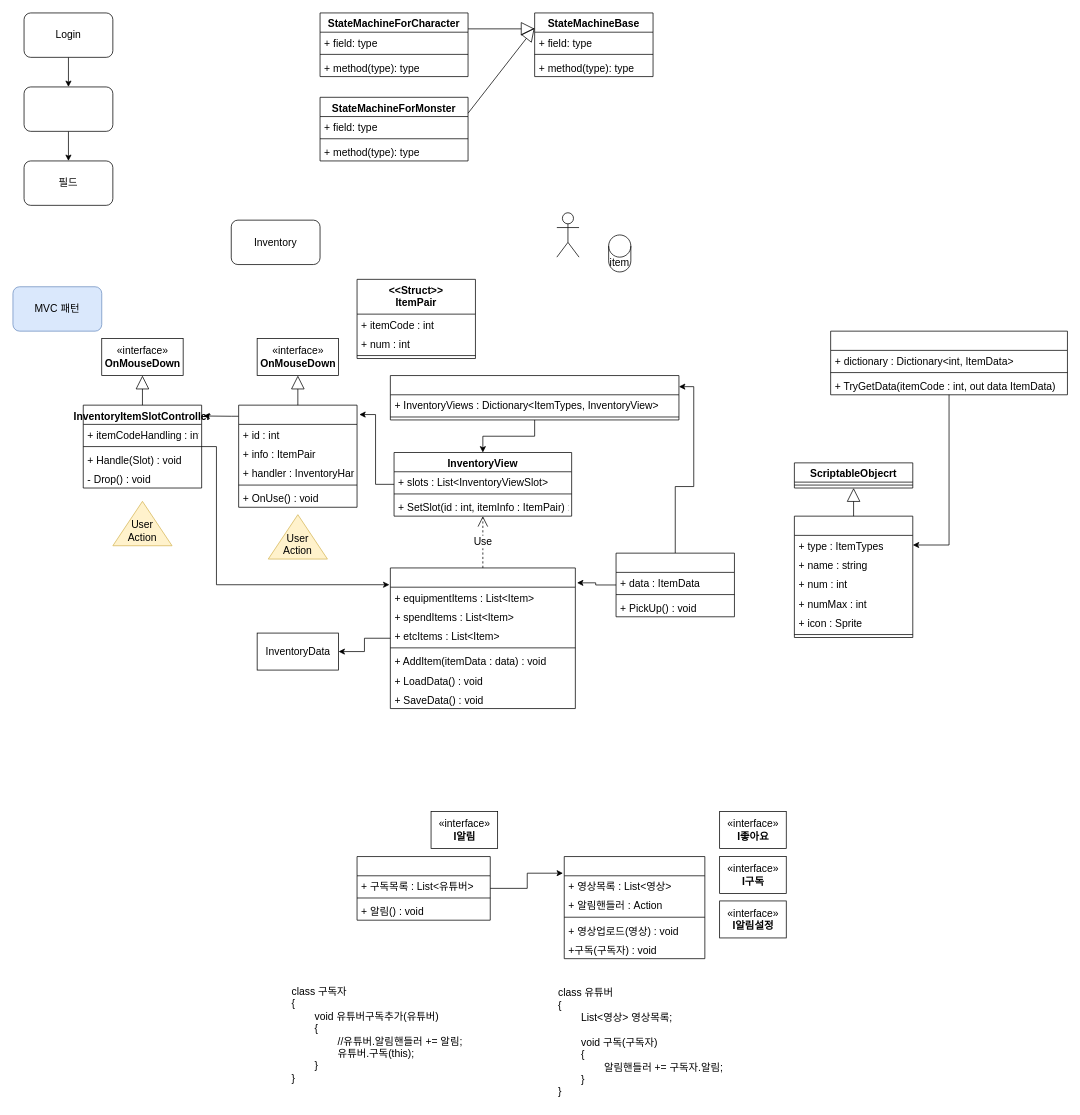
Image size: 1080x1115. Some labels were removed from this diagram. Here are the shapes that lost their labels. From the top down, the box of each, then its label:
(23, 86, 113, 131): 캐릭터 선택
(556, 212, 579, 257): Actor
(830, 330, 1067, 395): ItemAssets
(390, 375, 679, 420): InventoryViewManager
(238, 404, 357, 507): InventoryViewSlot
(615, 552, 734, 617): ItemController
(794, 515, 913, 638): ItemData
(390, 567, 575, 709): InventoryModel
(356, 856, 490, 920): 구독자
(564, 856, 705, 959): 유튜버
